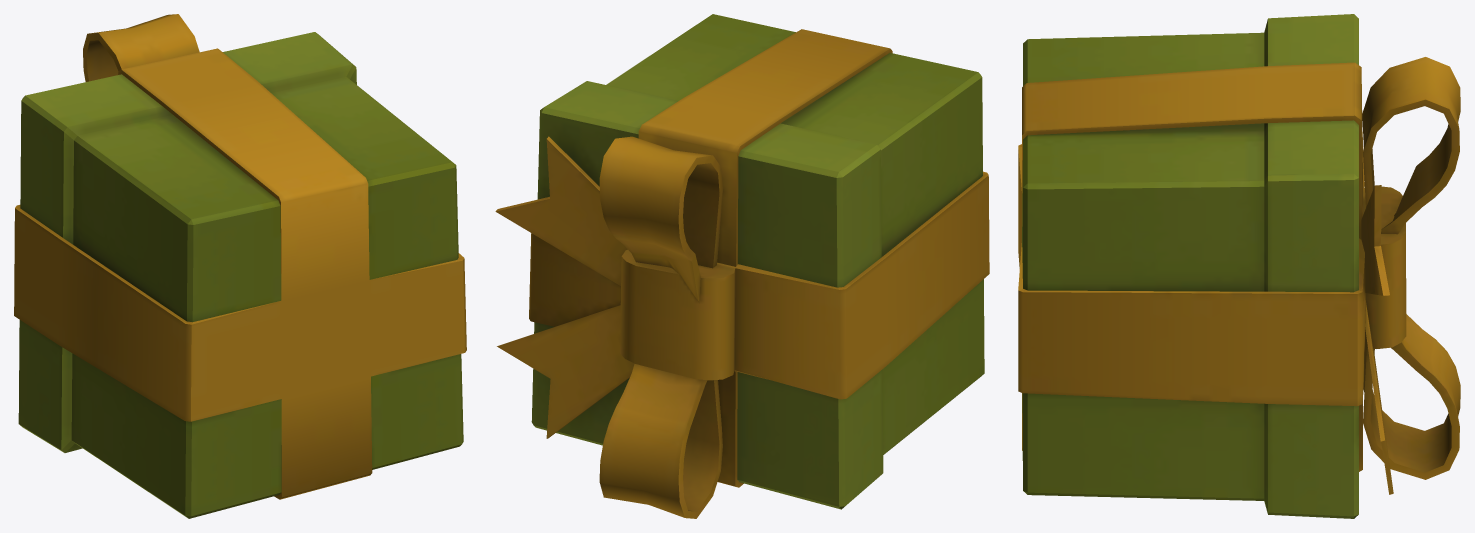
Rendered from halloween_gift.glb.
3 views of the same model, side by side, from view 1: azimuth 30°, elevation 25°; view 2: azimuth 150°, elevation 25°; view 3: azimuth 270°, elevation 25° (orthographic). The views are drawn at different scales.
Parts seen in each view (by area): view 1: halloween_gift; view 2: halloween_gift; view 3: halloween_gift.
Boxes of the visible parts, box(x1,y1,x2,y2) form: halloween_gift: box(14, 14, 466, 518); halloween_gift: box(495, 14, 989, 518); halloween_gift: box(1018, 14, 1460, 518).
Bounding box in the file's own units: 0.7393 × 0.7561 × 0.7943.
Materials: 1 (1 with a texture image).
